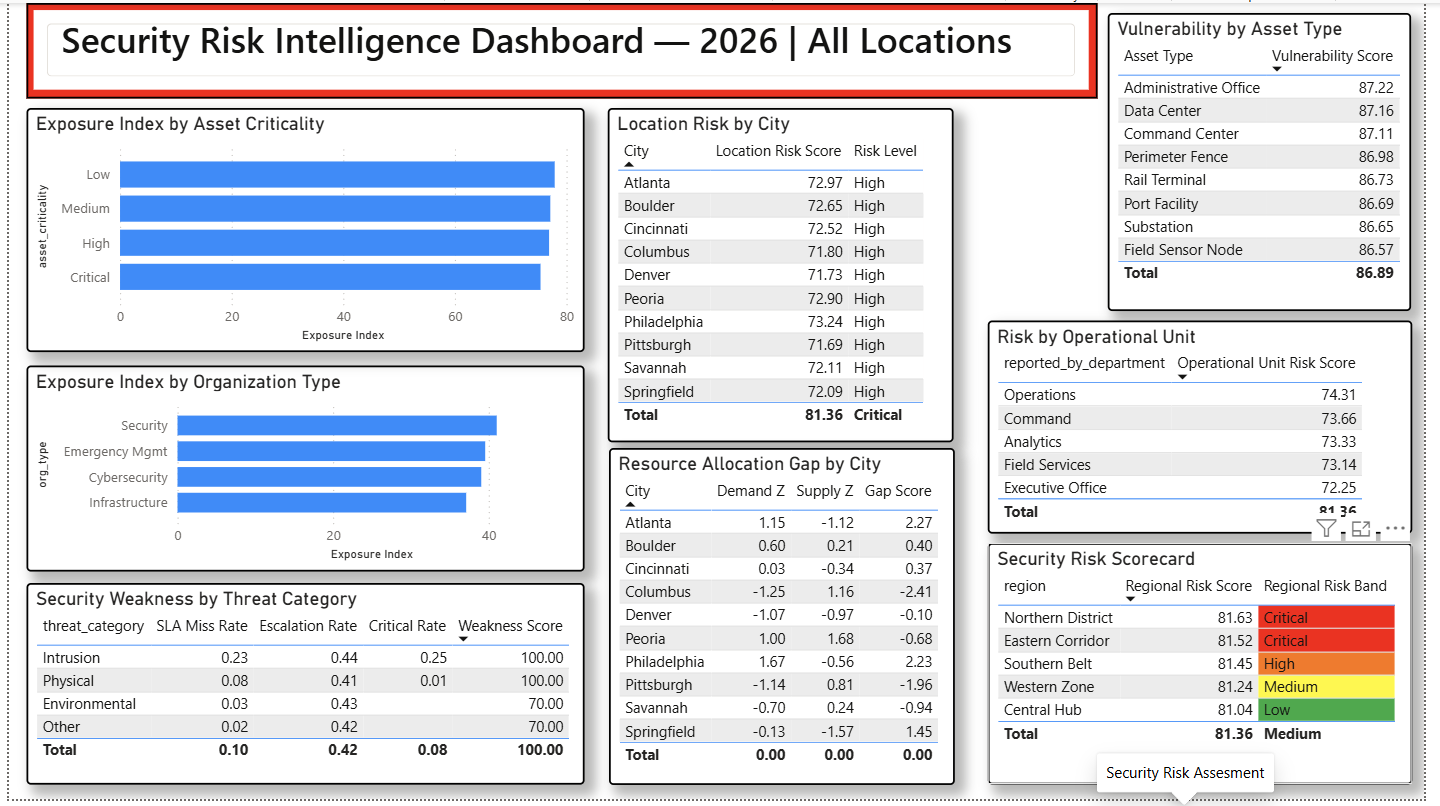

The page's visual inventory and layout, read from the dashboard file:
{"tool":"powerbi","page":{"name":"Security Risk Assesment ","canvas":[1280,720],"ordinal":6},"visuals":[{"type":"clusteredBarChart","title":"Exposure Index by Organization Type","fields":{"Category":["dim_organization.org_type"],"Y":["fact_incident.Exposure Index"]},"box":[16.3,327.9,504.7,186],"z":0},{"type":"clusteredBarChart","title":"Exposure Index by Asset Criticality","fields":{"Category":["dim_asset.asset_criticality"],"Y":["fact_incident.Exposure Index"]},"box":[16.3,95.3,504.7,220.9],"z":1000},{"type":"tableEx","title":"Vulnerability by Asset Type","fields":{"Values":["dim_asset.asset_type","fact_response.Vulnerability Score"]},"box":[994.2,9.3,274.4,269.8],"z":2000},{"type":"tableEx","title":"Location Risk by City","fields":{"Values":["dim_location.city","_Measures.Location Risk Score","_Measures.Location Risk Level"]},"box":[541.9,95.3,312.8,302.3],"z":3000},{"type":"tableEx","title":"Risk by Operational Unit","fields":{"Values":["fact_response.reported_by_department","_Measures.Operational Unit Risk Score"]},"box":[884.9,287.2,383.7,193],"z":4000},{"type":"tableEx","title":"Resource Allocation Gap by City","fields":{"Values":["dim_location.city","_Measures.Demand Z","_Measures.Supply Z","_Measures.Gap Score"]},"box":[543,402.3,312.8,304.7],"z":5000},{"type":"tableEx","title":"Security Weakness by Threat Category","fields":{"Values":["dim_threat_type.threat_category","_Measures.SLA Miss Rate","_Measures.Escalation Rate","_Measures.Critical Rate","_Measures.Weakness Score"]},"box":[16.3,524.4,504.7,182.6],"z":6000},{"type":"tableEx","title":"Security Risk Scorecard","fields":{"Values":["dim_location.region","_Measures.Regional Risk Score","_Measures.Regional Risk Band"]},"box":[884.9,488.4,383.7,218.6],"z":7000},{"type":"cardVisual","fields":{"Data":["_Measures.Dashboard Title8"]},"box":[16.3,0,968.6,86],"z":8000}]}

Visuals, with their boxes in screenshot pixels (x1, y1, x2, y2), scaled from the page's 1280x720 canvas onto the 1440x806 screenshot:
"Exposure Index by Organization Type" clusteredBarChart: <bbox>18, 367, 586, 575</bbox>
"Exposure Index by Asset Criticality" clusteredBarChart: <bbox>18, 107, 586, 354</bbox>
"Vulnerability by Asset Type" tableEx: <bbox>1118, 10, 1427, 312</bbox>
"Location Risk by City" tableEx: <bbox>610, 107, 962, 445</bbox>
"Risk by Operational Unit" tableEx: <bbox>996, 322, 1427, 538</bbox>
"Resource Allocation Gap by City" tableEx: <bbox>611, 450, 963, 791</bbox>
"Security Weakness by Threat Category" tableEx: <bbox>18, 587, 586, 791</bbox>
"Security Risk Scorecard" tableEx: <bbox>996, 547, 1427, 791</bbox>
cardVisual - _Measures.Dashboard Title8: <bbox>18, 0, 1108, 96</bbox>
